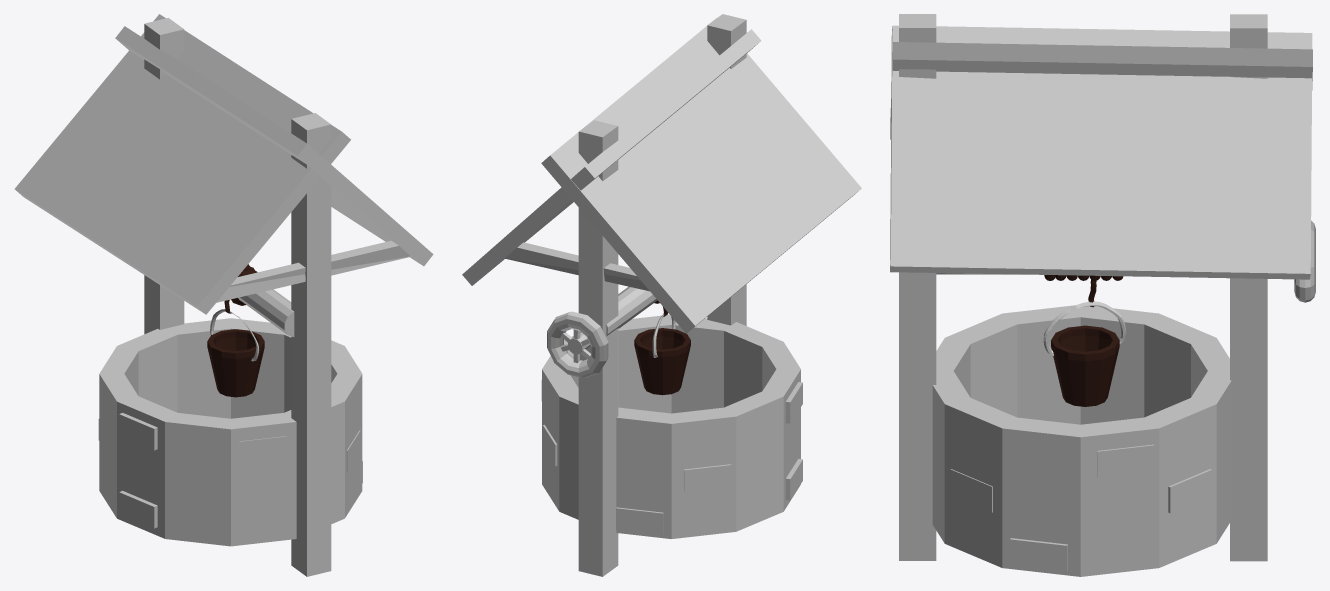
The picture shows the model from 3 angles, left to right: view 1: azimuth 30°, elevation 25°; view 2: azimuth 150°, elevation 25°; view 3: azimuth 270°, elevation 25°; orthographic projection. The views are drawn at different scales.
Bounding box in the file's own units: 0.5874 × 1.04 × 0.7459.
